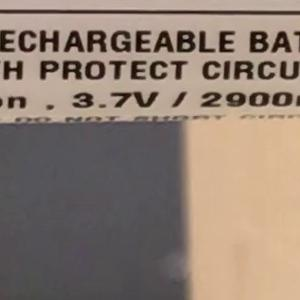keyword: (62, 81, 169, 118)
